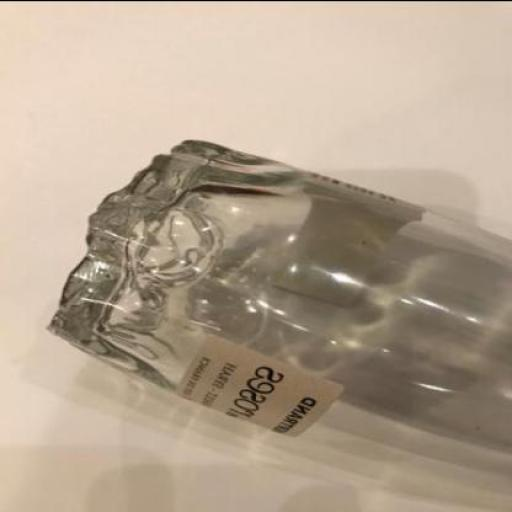glass: (44, 138, 511, 472)
